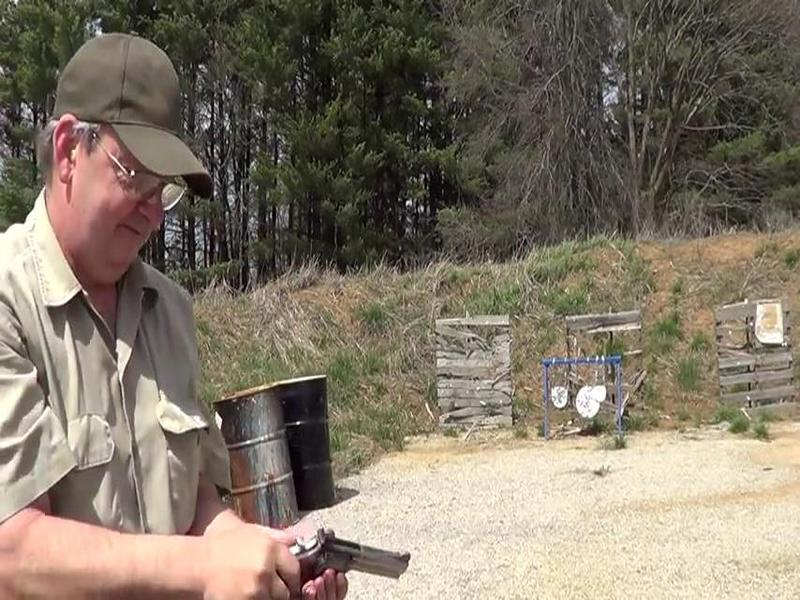Revolver: (273, 519, 437, 600)
